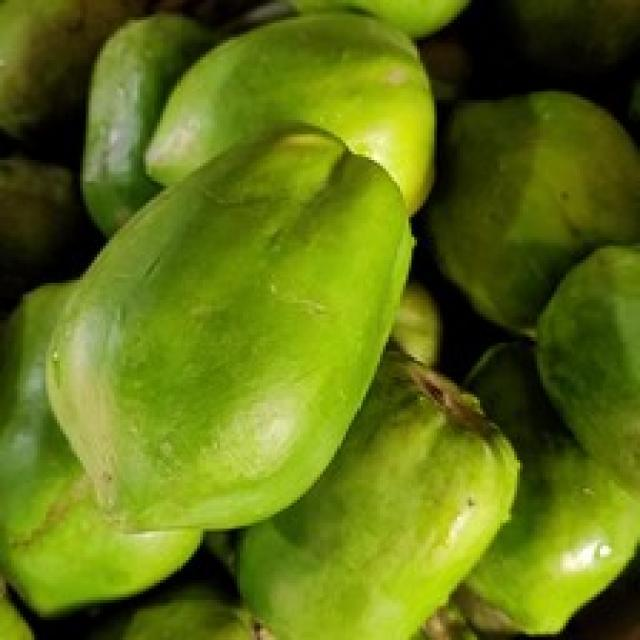Papaya: (32, 112, 416, 565), (418, 105, 640, 450)
